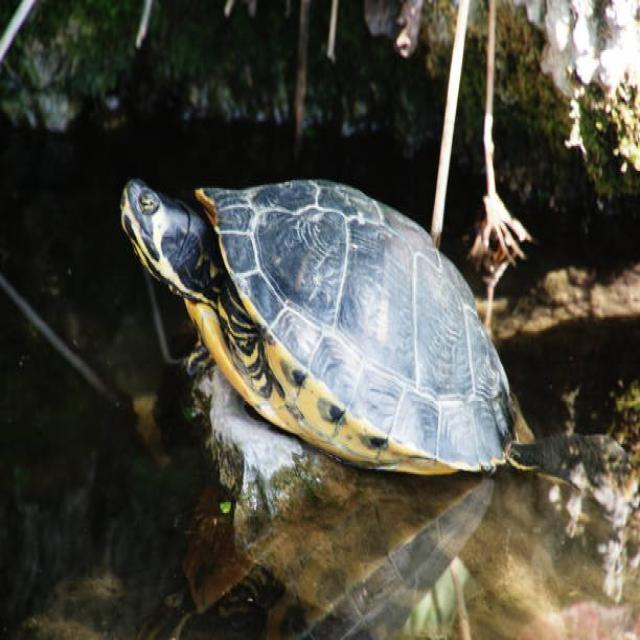terrapin: (187, 148, 574, 484), (113, 153, 186, 299)
